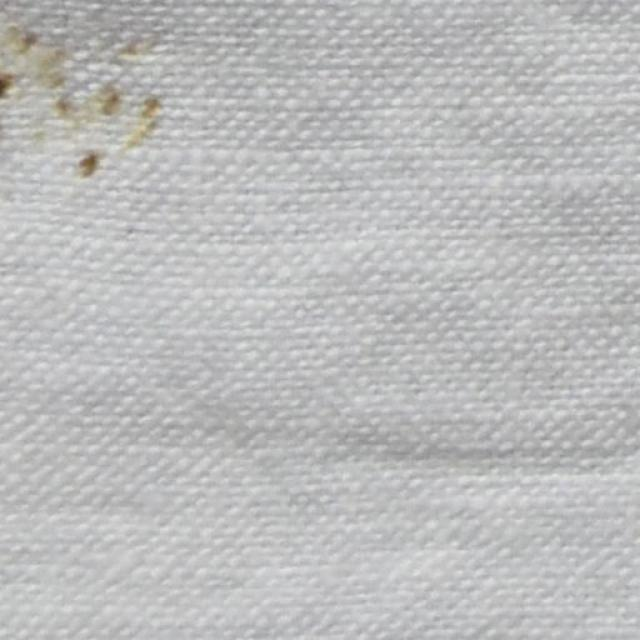Stain: (0, 15, 184, 176)
